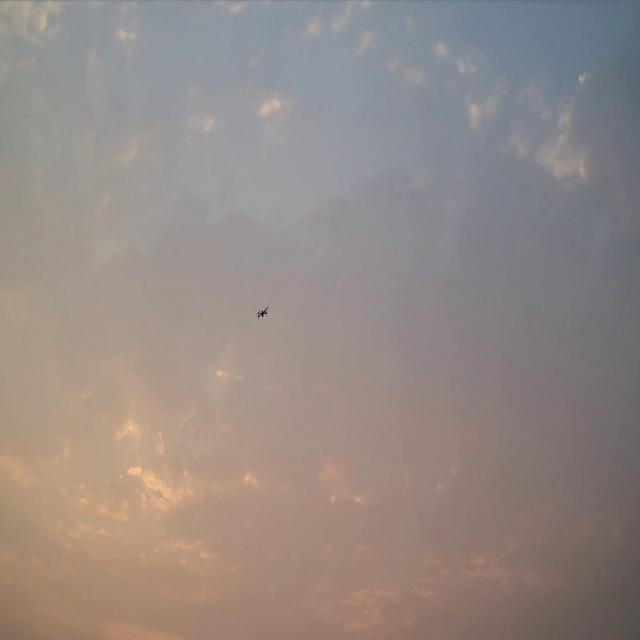UAV: (255, 306, 269, 319)
